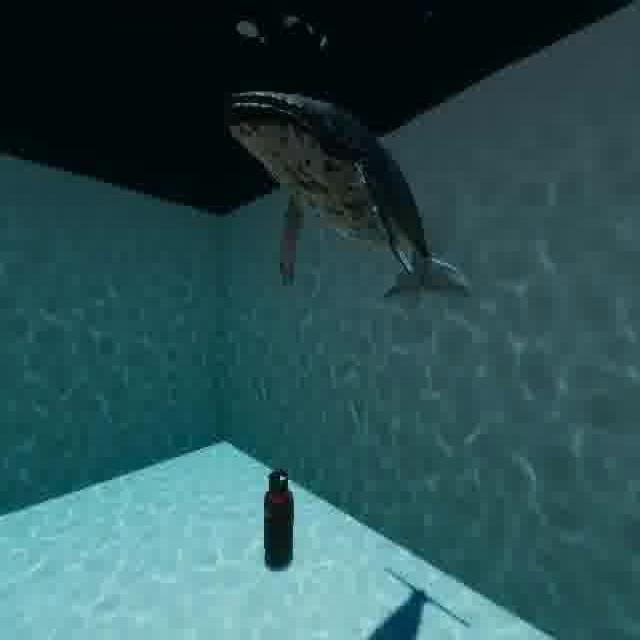Cylinder: (261, 462, 309, 573)
Whale: (218, 65, 501, 359)
